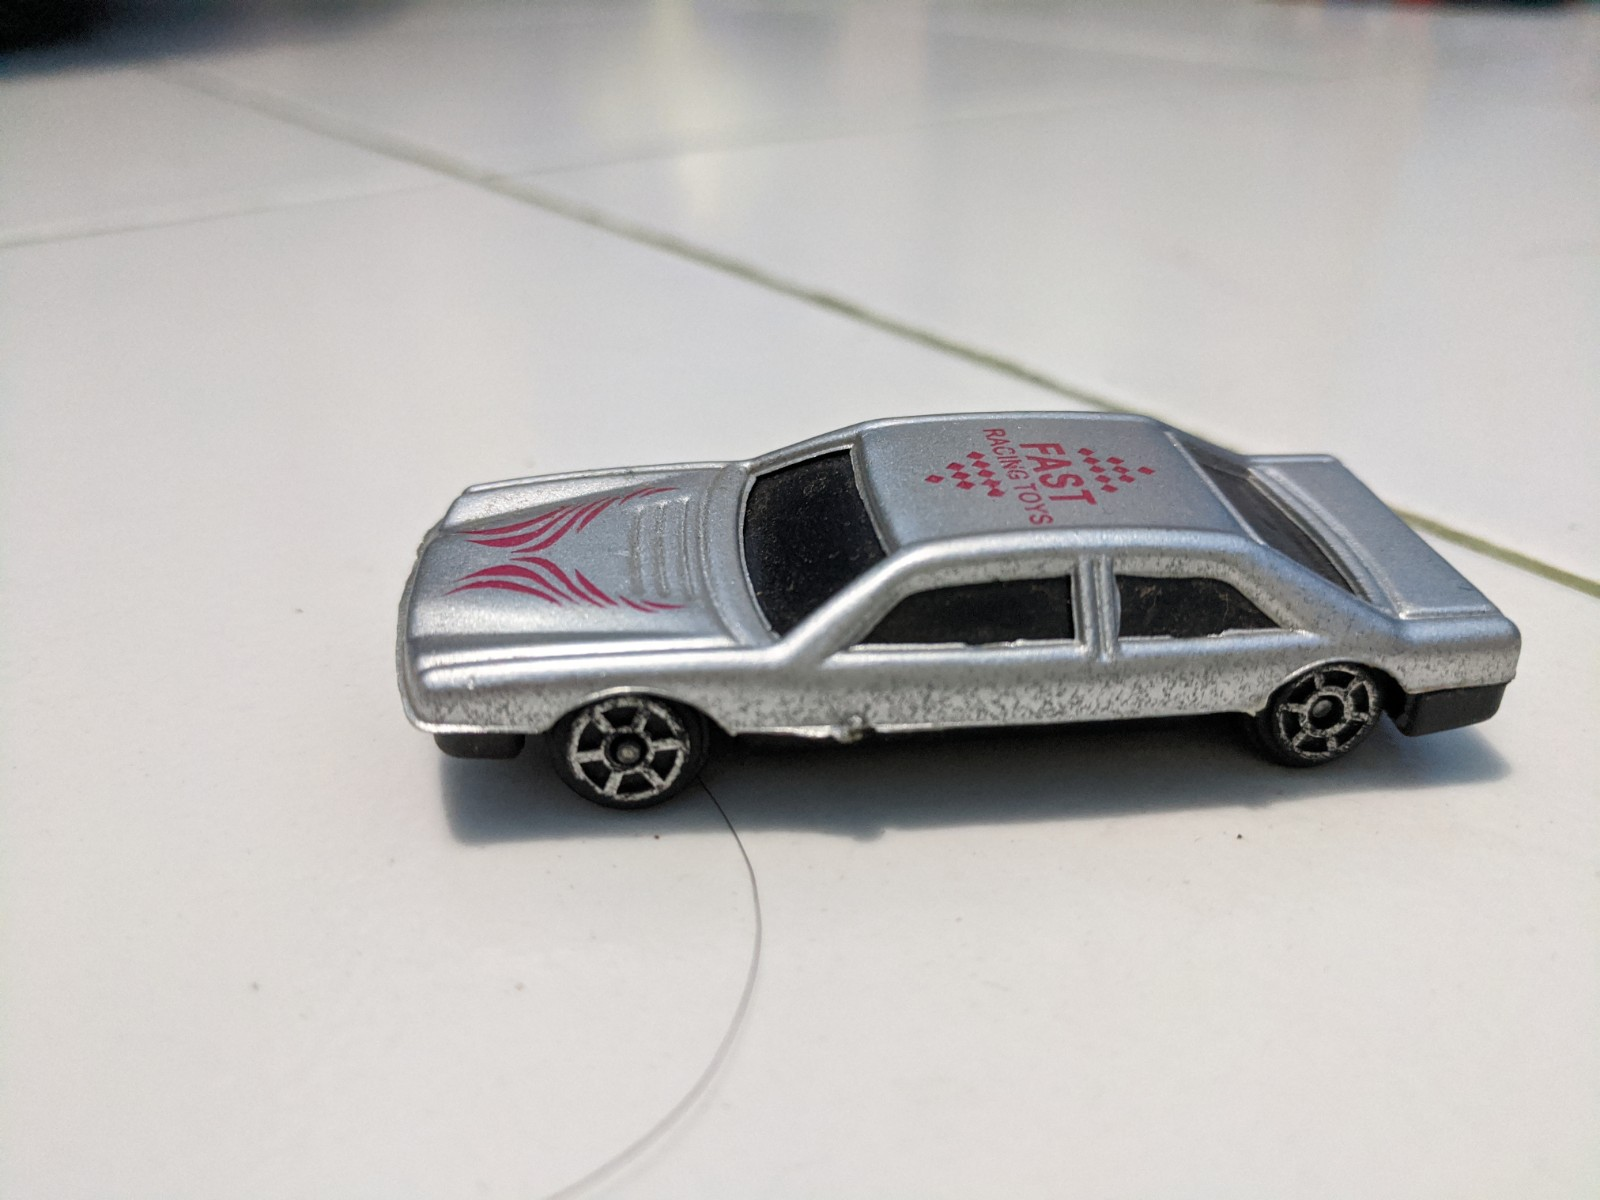mobil: (392, 400, 1517, 812)
